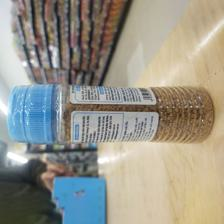TayNinh_blue: (7, 84, 215, 148)
